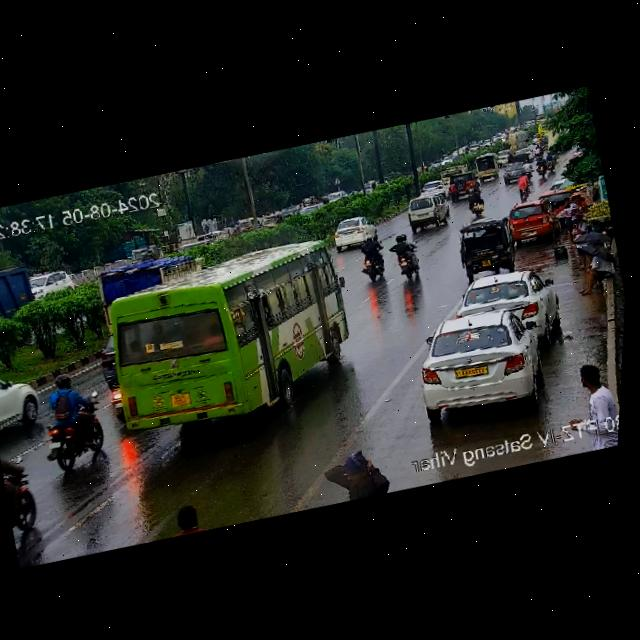bus: (80, 236, 361, 450)
car: (402, 298, 565, 426), (448, 262, 558, 344), (0, 361, 48, 456), (448, 213, 516, 276), (504, 197, 560, 245), (396, 189, 452, 234), (328, 213, 382, 253), (88, 332, 124, 390), (30, 265, 77, 301), (532, 176, 574, 215), (444, 170, 483, 201), (468, 152, 501, 182), (499, 158, 533, 185), (412, 176, 449, 197), (255, 212, 288, 231), (303, 201, 328, 219), (234, 215, 256, 233), (493, 147, 510, 166), (308, 192, 329, 207), (326, 189, 346, 202), (538, 132, 551, 148), (513, 152, 530, 162), (524, 145, 535, 160), (530, 131, 541, 145)
motorcycle: (34, 367, 113, 471), (0, 451, 43, 538), (386, 231, 426, 279), (354, 234, 394, 282), (521, 147, 559, 181), (458, 186, 488, 218), (513, 170, 532, 201)
person: (317, 443, 394, 507), (570, 363, 619, 425), (566, 241, 621, 296), (164, 498, 205, 538), (565, 212, 594, 261), (564, 189, 588, 209)
truck: (89, 246, 204, 304), (0, 256, 52, 332), (179, 228, 231, 254), (504, 128, 531, 151), (438, 163, 470, 179)
